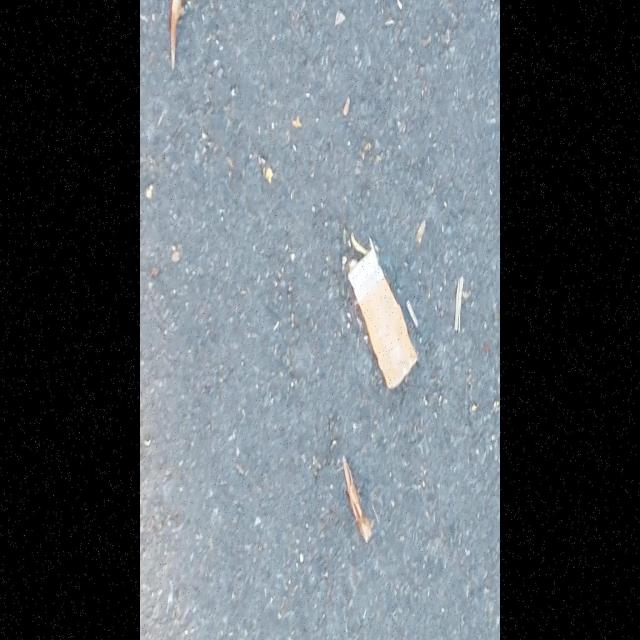other waste: (346, 243, 420, 393)
